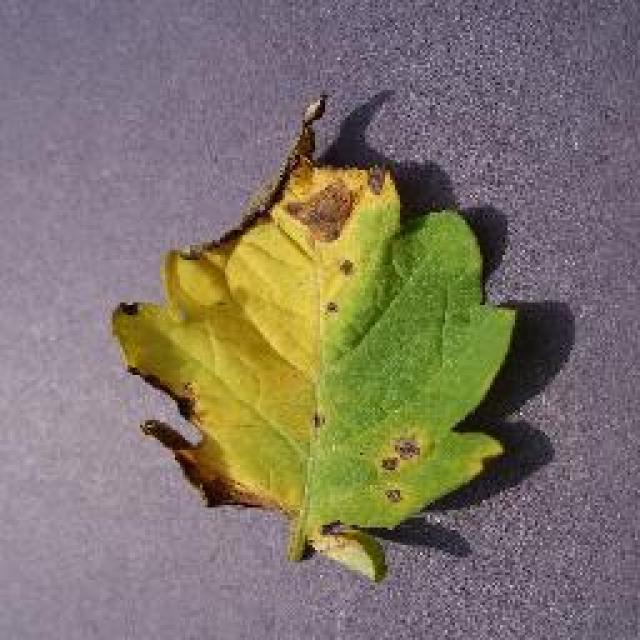Tomato target spot leaf: (111, 99, 519, 574)
